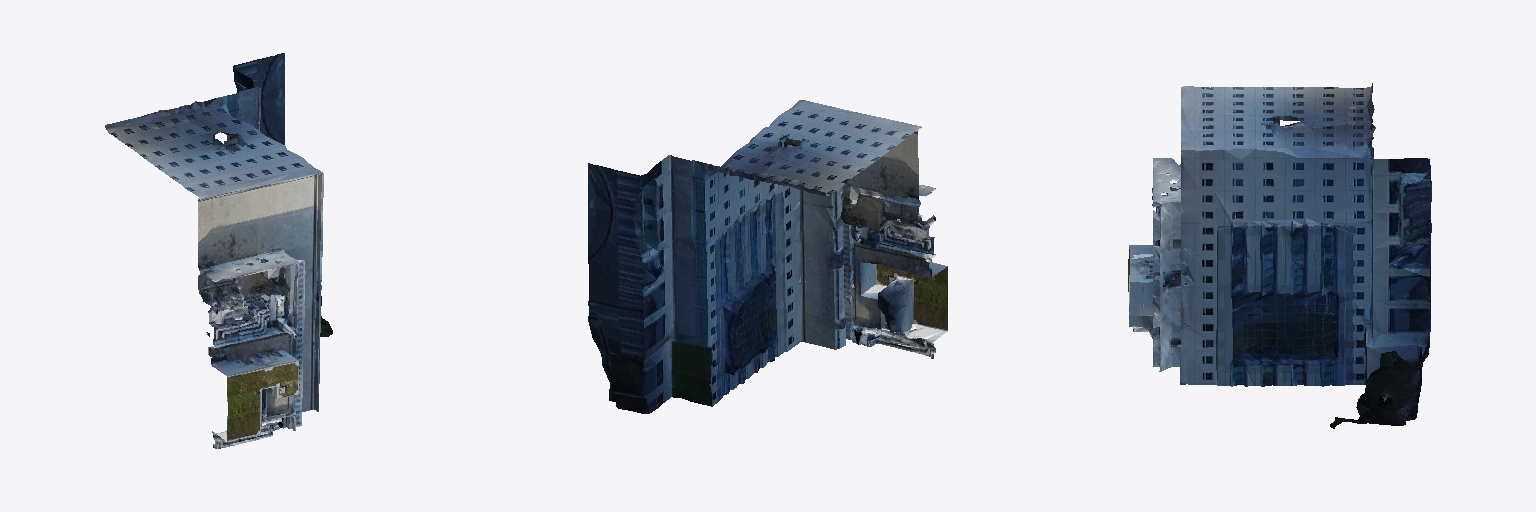
3 views of the same model, side by side, from view 1: azimuth 30°, elevation 25°; view 2: azimuth 150°, elevation 25°; view 3: azimuth 270°, elevation 25° (orthographic).
Parts seen in each view (by area): view 1: obj_0; view 2: obj_0; view 3: obj_0.
Boxes of the visible parts, <box> form: obj_0: <box>105,53,332,448</box>; obj_0: <box>588,100,947,413</box>; obj_0: <box>1128,83,1431,428</box>.
Size of the model in its own units: 40.15 by 45.06 by 50.58.
1 materials, 1 textured.